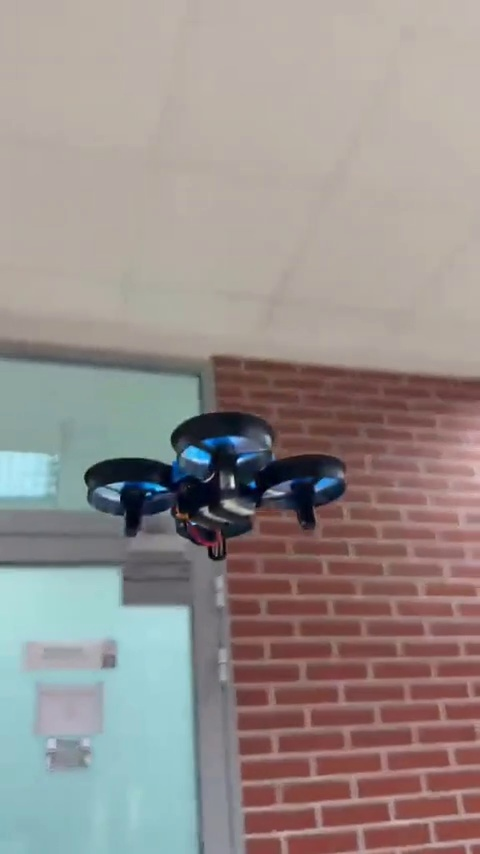drone: (80, 411, 348, 559)
